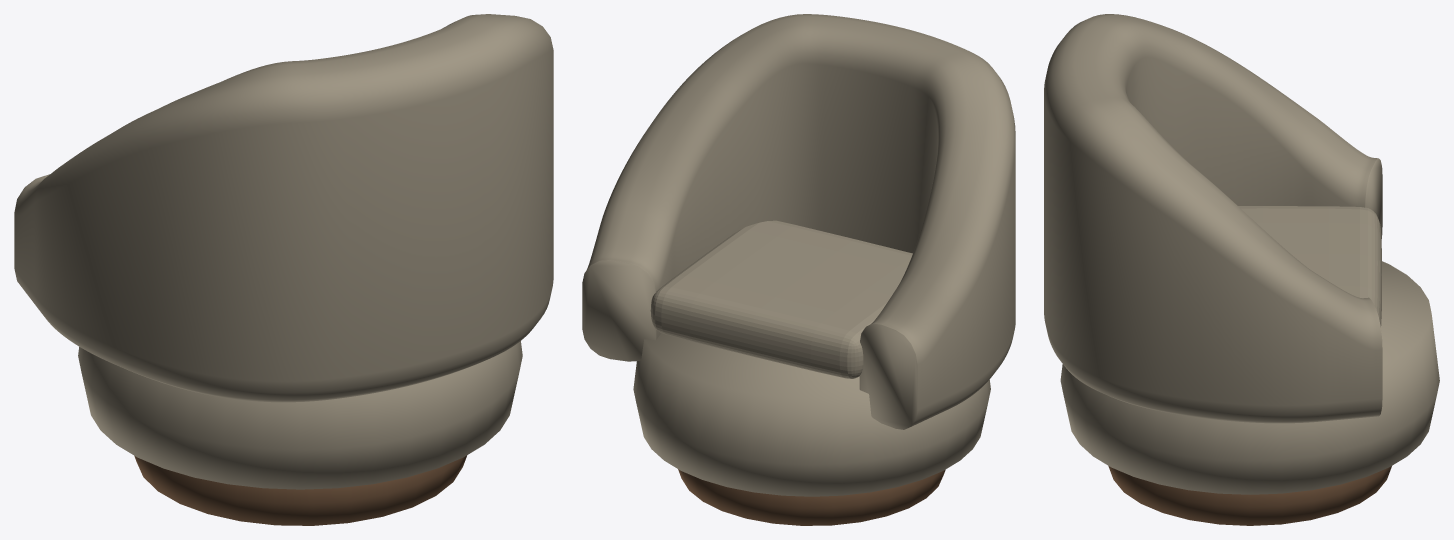
The model's file is wingback.glb.
The picture shows the model from 3 angles, left to right: view 1: azimuth 30°, elevation 25°; view 2: azimuth 150°, elevation 25°; view 3: azimuth 270°, elevation 25°; orthographic projection. The views are drawn at different scales.
Visible parts, largest first — view 1: wing_shell, wing_seat, wing_plinth; view 2: wing_shell, wing_seat, wing_cushion, wing_plinth; view 3: wing_shell, wing_seat, wing_cushion, wing_plinth.
Boxes of the visible parts, x1,y1,x2,y2 form: wing_shell: [14, 14, 553, 402]; wing_seat: [78, 341, 522, 489]; wing_plinth: [134, 455, 466, 525]; wing_shell: [582, 14, 1015, 429]; wing_seat: [633, 333, 990, 496]; wing_cushion: [650, 220, 912, 378]; wing_plinth: [678, 469, 945, 525]; wing_shell: [1044, 14, 1382, 423]; wing_seat: [1060, 261, 1439, 494]; wing_cushion: [1238, 206, 1381, 326]; wing_plinth: [1108, 466, 1391, 525].
Bounding box in the file's own units: 1.08 × 1.08 × 0.96.
